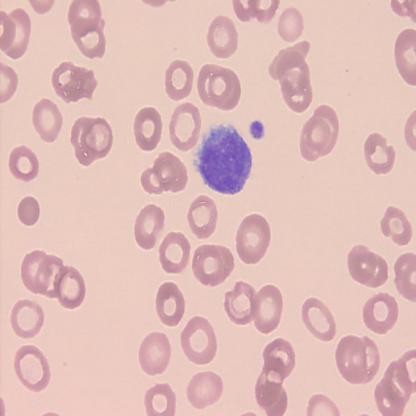Monocyte: (190, 118, 253, 198)
